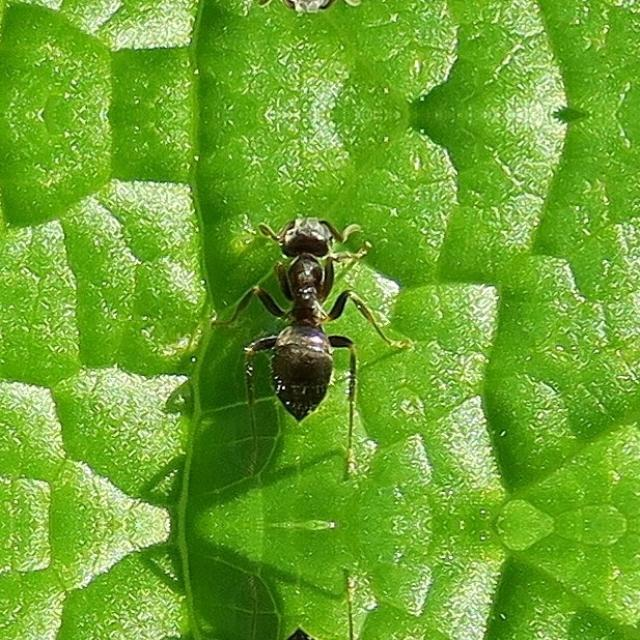Lasius: (224, 201, 390, 425)
